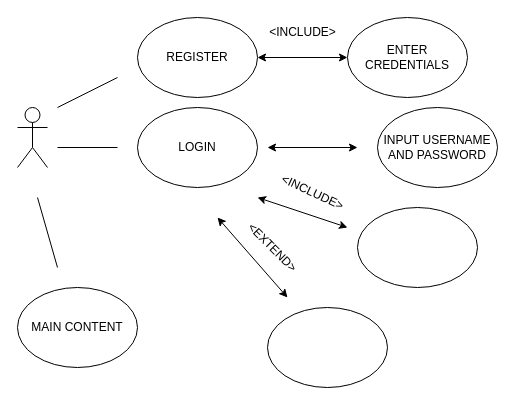
Some shapes in this 515 by 405 pixel diagram are drawn without their labels. The shapes that lost their labels are listed below. From the top down, each one's box as (x1, y1, x2, y2) in pixels, then its label:
(16, 106, 48, 168): User
(356, 206, 478, 288): SUBMIT AND VERIFY CREDENTIALS
(266, 306, 388, 388): CHECK CREDENTIALS
